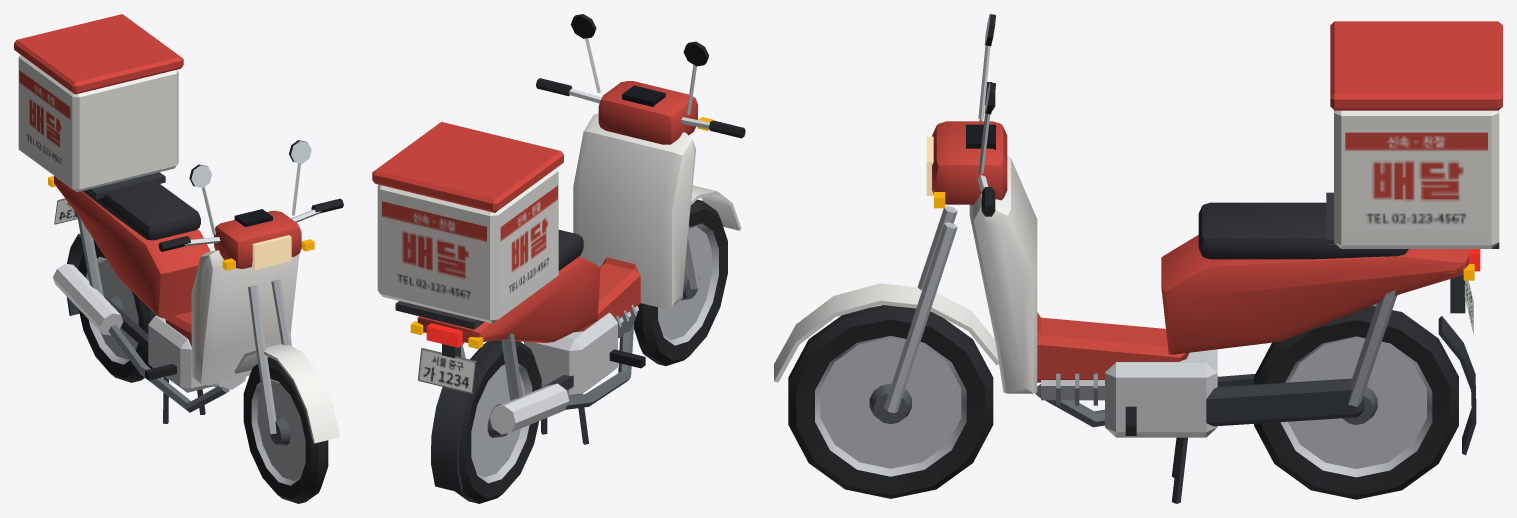
File: SC_Veh_Scooter_Delivery.gltf
The picture shows the model from 3 angles, left to right: view 1: azimuth 30°, elevation 25°; view 2: azimuth 150°, elevation 25°; view 3: azimuth 270°, elevation 25°; orthographic projection. The views are drawn at different scales.
Parts seen in each view (by area): view 1: SC_Veh_Scooter_Delivery; view 2: SC_Veh_Scooter_Delivery; view 3: SC_Veh_Scooter_Delivery.
Boxes of the visible parts, left/top/right/bottom form: SC_Veh_Scooter_Delivery: left=14, top=14, right=343, bottom=503; SC_Veh_Scooter_Delivery: left=372, top=14, right=745, bottom=503; SC_Veh_Scooter_Delivery: left=774, top=14, right=1502, bottom=503.
Size of the model in its own units: 0.78 by 1.32 by 1.94.
3 materials, 3 textured.
